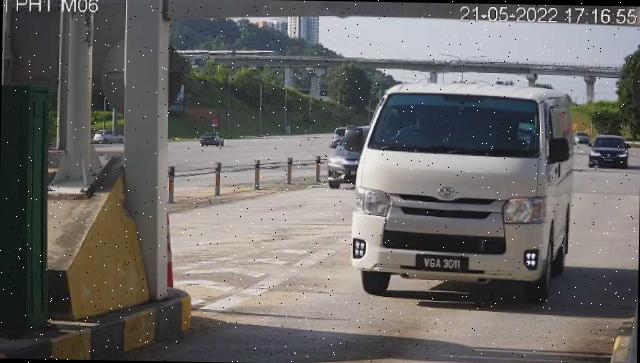License_Plate: (415, 252, 472, 277)
van: (352, 81, 577, 304)
